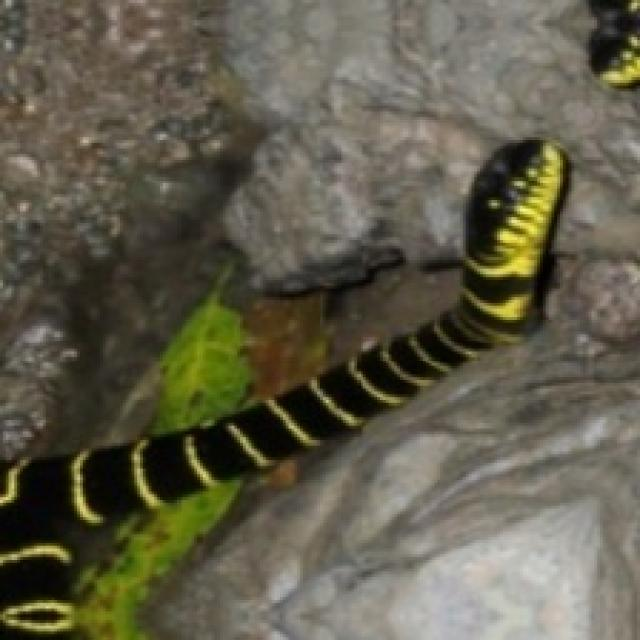mangrove cat snake: (0, 137, 566, 637)
